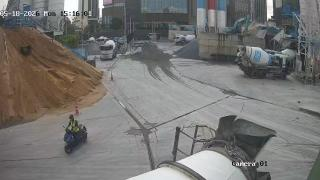cement_mixer_truck: (126, 115, 276, 180), (235, 46, 289, 79), (100, 40, 116, 60), (266, 48, 296, 57), (174, 34, 195, 44), (98, 35, 105, 43), (86, 38, 95, 43)
